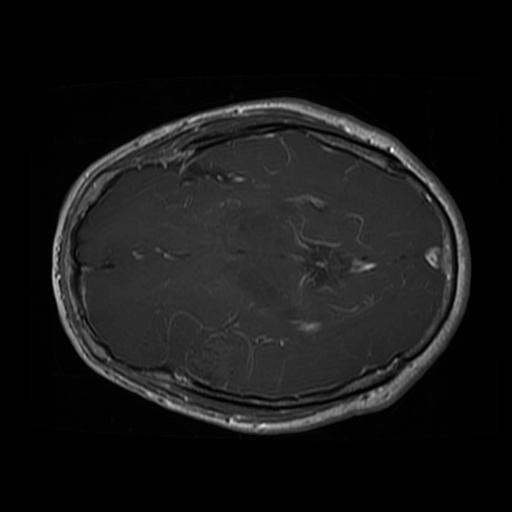glioma: (182, 326, 253, 386)
